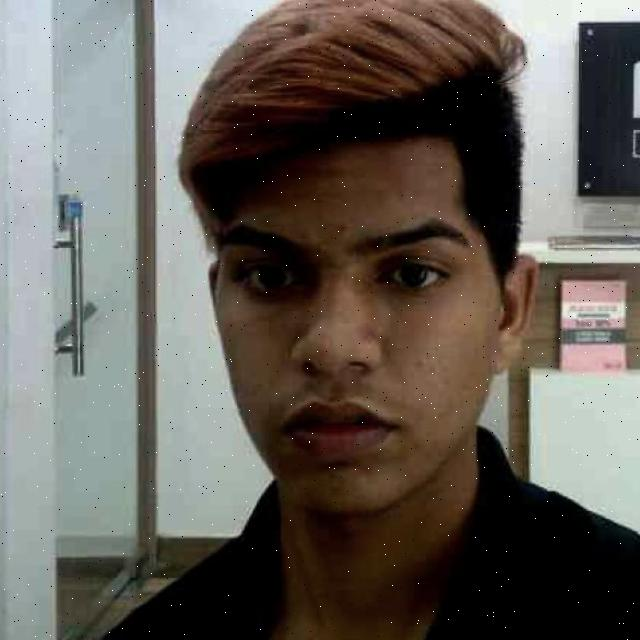puffy_eyes: (243, 260, 321, 305)
